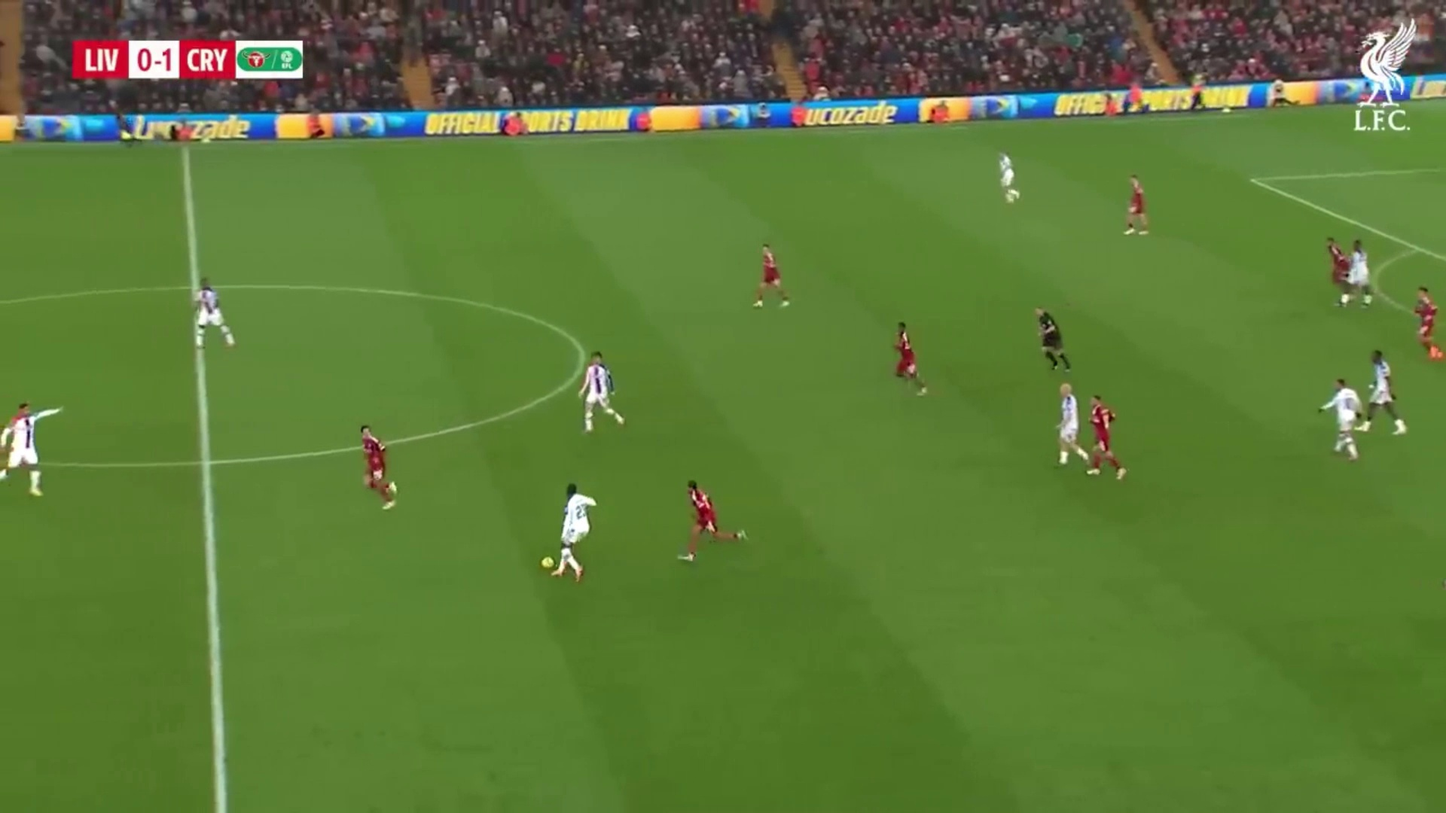player: (0, 401, 61, 498), (679, 479, 748, 564), (547, 481, 597, 582), (0, 402, 43, 499), (1364, 350, 1408, 436), (582, 351, 626, 433), (1084, 395, 1127, 478), (681, 479, 722, 564), (1324, 378, 1364, 462), (194, 281, 237, 349), (360, 423, 395, 505), (751, 244, 793, 310), (892, 322, 928, 394), (1339, 243, 1375, 309), (1056, 382, 1083, 467), (1412, 287, 1443, 359), (1036, 308, 1071, 371), (1370, 348, 1400, 416), (753, 244, 785, 303), (1122, 174, 1151, 237), (1348, 243, 1372, 307), (1326, 236, 1348, 304), (998, 151, 1022, 206)
